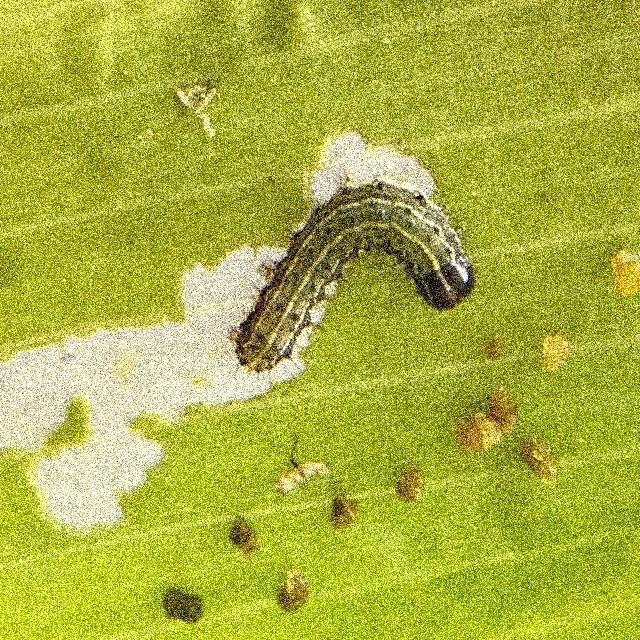gusano_cogollero: (236, 180, 472, 372)
